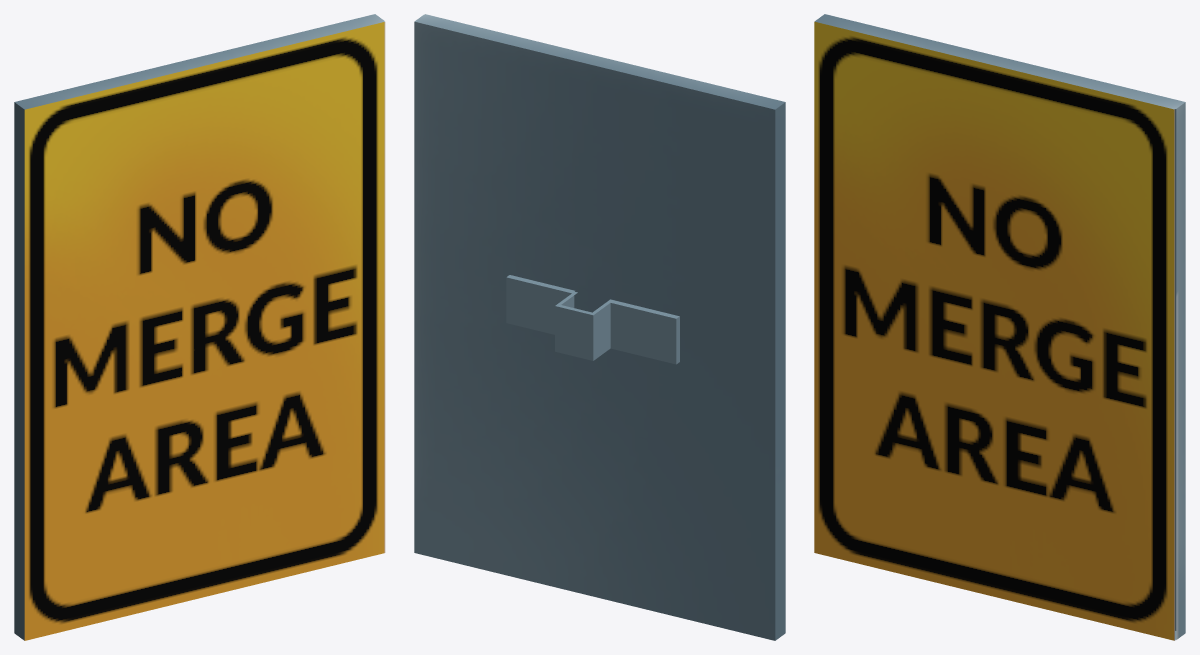
File: Sign73.fbx
The picture shows the model from 3 angles, left to right: view 1: azimuth 30°, elevation 25°; view 2: azimuth 150°, elevation 25°; view 3: azimuth 330°, elevation 25°; orthographic projection.
Visible parts, largest first — view 1: Sign73; view 2: Sign73; view 3: Sign73.
Part boxes in pixels (x1,y1,x2,y2): Sign73: [14, 14, 385, 640]; Sign73: [414, 14, 785, 640]; Sign73: [814, 14, 1185, 640].
Bounding box in the file's own units: 1 × 0.1489 × 1.41.
